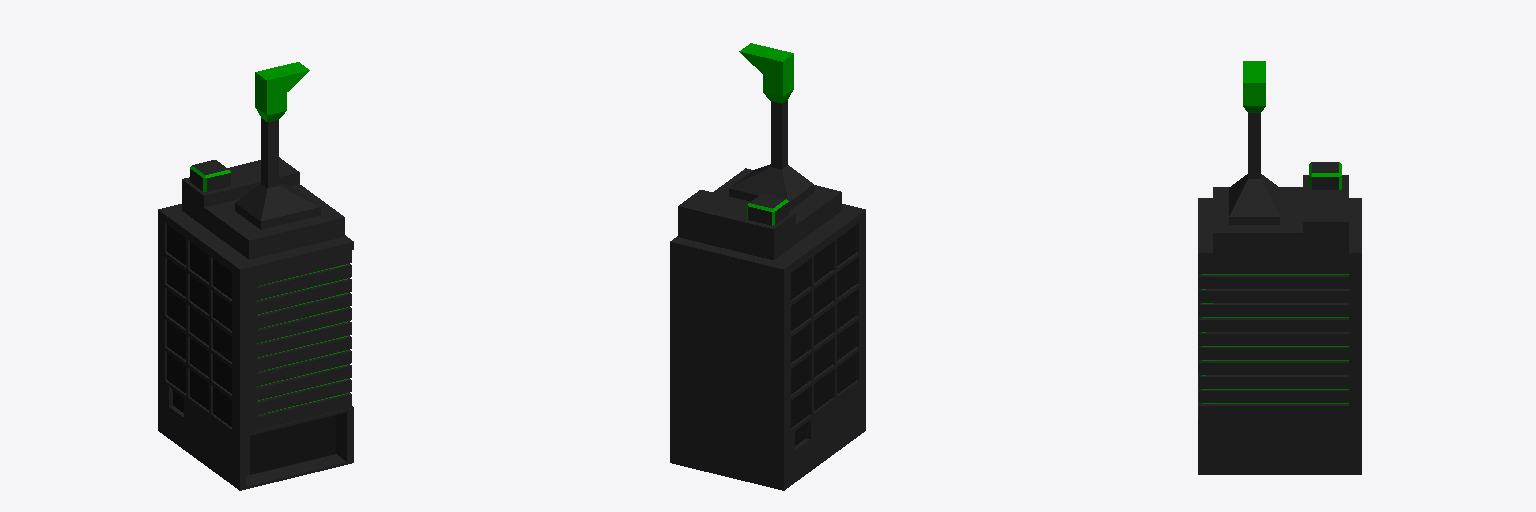
Rendered from broadcastDevice.obj.
3 renders of one model, left to right at view 1: azimuth 30°, elevation 25°; view 2: azimuth 150°, elevation 25°; view 3: azimuth 270°, elevation 25°, orthographic.
Parts seen in each view (by area): view 1: Cube.024_Cube.035; view 2: Cube.024_Cube.035; view 3: Cube.024_Cube.035.
Boxes of the visible parts, box(x1,y1,x2,y2) form: Cube.024_Cube.035: box(158, 62, 353, 490); Cube.024_Cube.035: box(670, 43, 865, 490); Cube.024_Cube.035: box(1198, 61, 1361, 474).
Bounding box in the file's own units: 0.81 × 2.59 × 1.01.